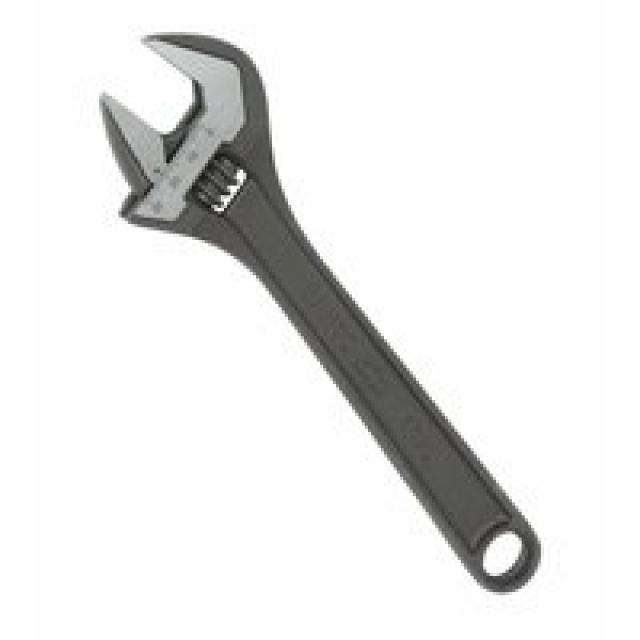wrench: (90, 22, 548, 604)
